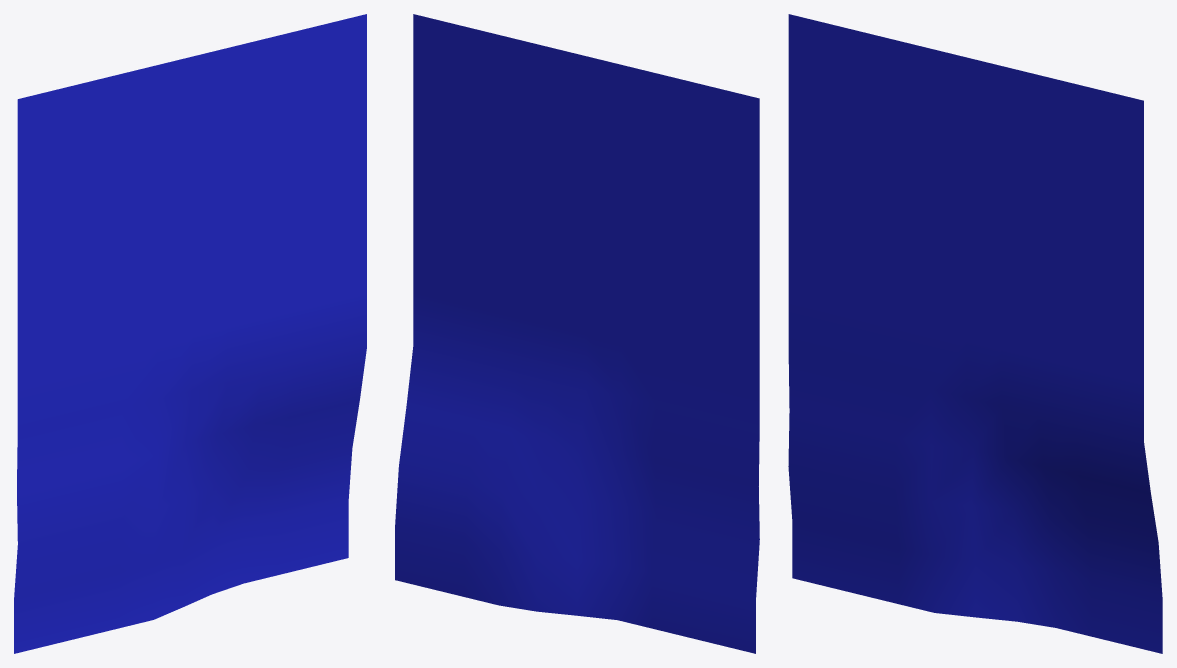
Rendered from Poster01_mesh.fbx.
3 views of the same model, side by side, from view 1: azimuth 30°, elevation 25°; view 2: azimuth 150°, elevation 25°; view 3: azimuth 330°, elevation 25° (orthographic). The views are drawn at different scales.
Visible parts, largest first — view 1: Poster01_mesh; view 2: Poster01_mesh; view 3: Poster01_mesh.
Part boxes in pixels (<box>): Poster01_mesh: <box>14,14,366,653</box>; Poster01_mesh: <box>395,14,759,653</box>; Poster01_mesh: <box>788,14,1162,653</box>.
Size of the model in its own units: 398 by 607 by 36.55.
